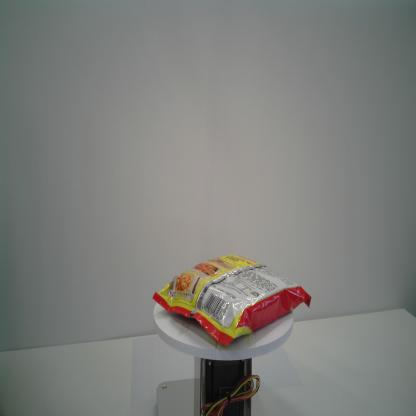Instant Noodles: (152, 255, 312, 346)
